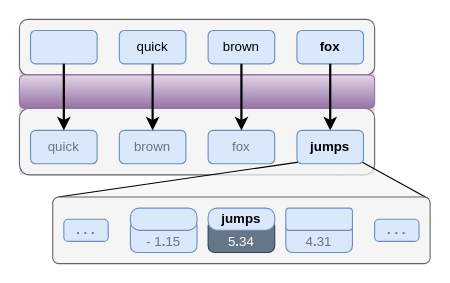
Some shapes in this 450 by 283 pixel diagram are drawn without their labels. Each missing label, with the centre of its shape:
jumbo: the point at 163,218
jumpy: the point at 318,218
LLM: the point at 196,91
The: the point at 63,46
